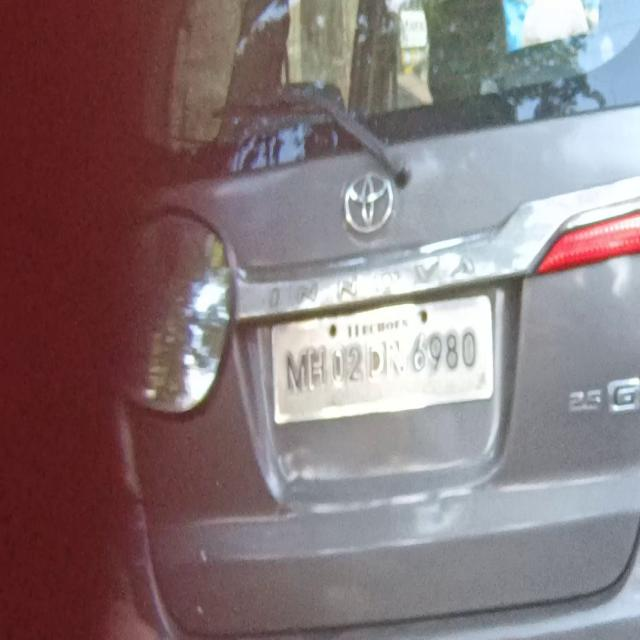Plate: (271, 291, 494, 423)
